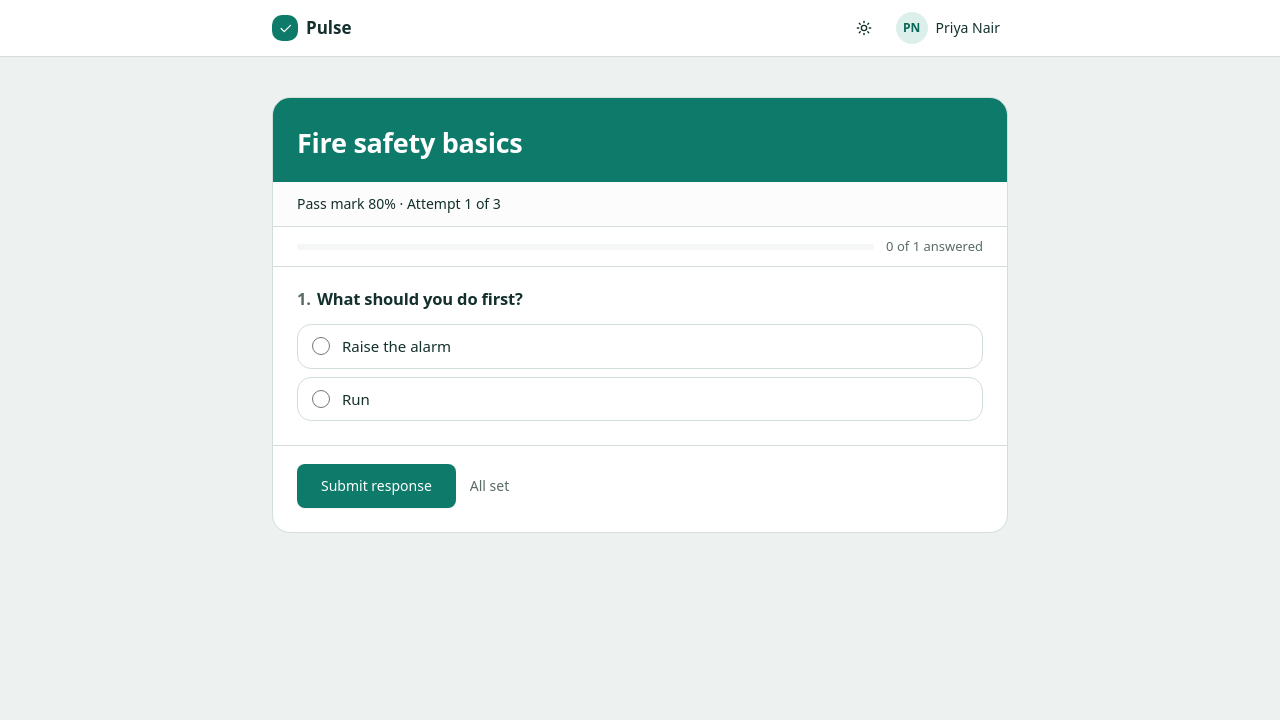
it: taking a scored training › shows the pass mark, scores on the server, and offers a retake
Expected: the text "Pass mark 80% · Attempt 1 of 3" is shown, [273,182,1007,227]
Click the radio button labelled "Run" at (321, 399), box [312,390,330,408]
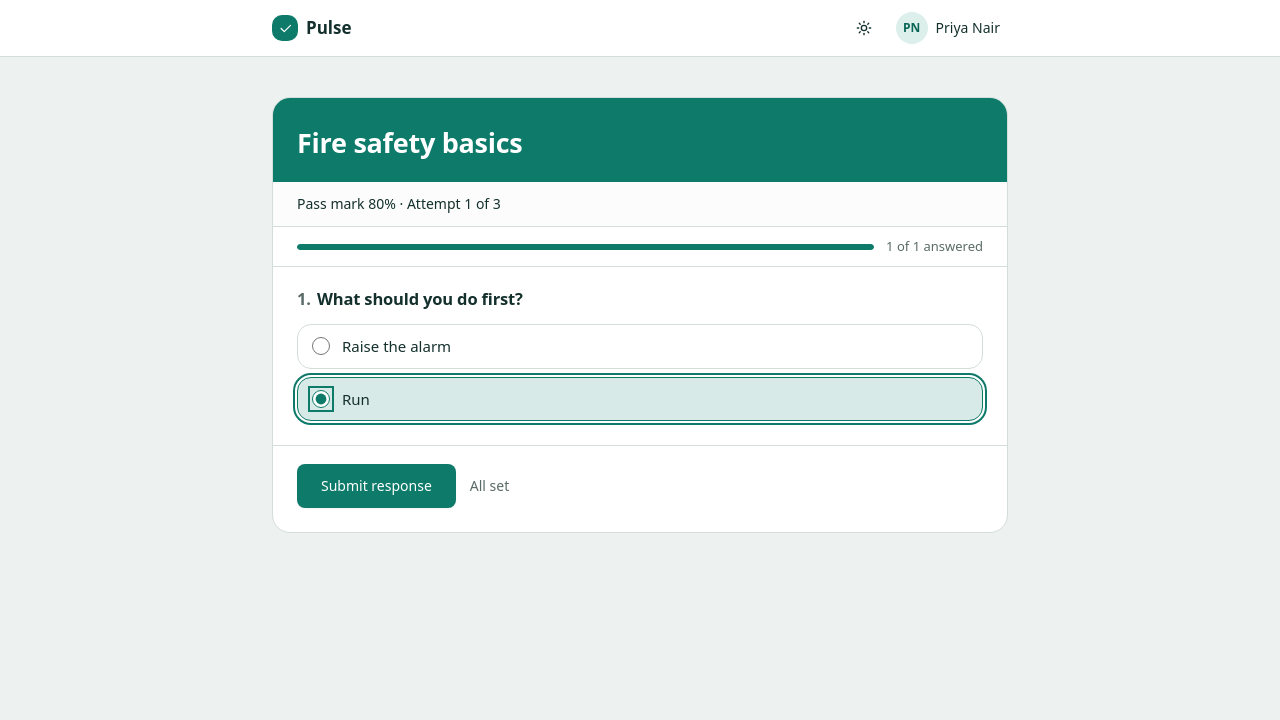
Click the button "Submit response" at (376, 486), box [297,464,456,508]
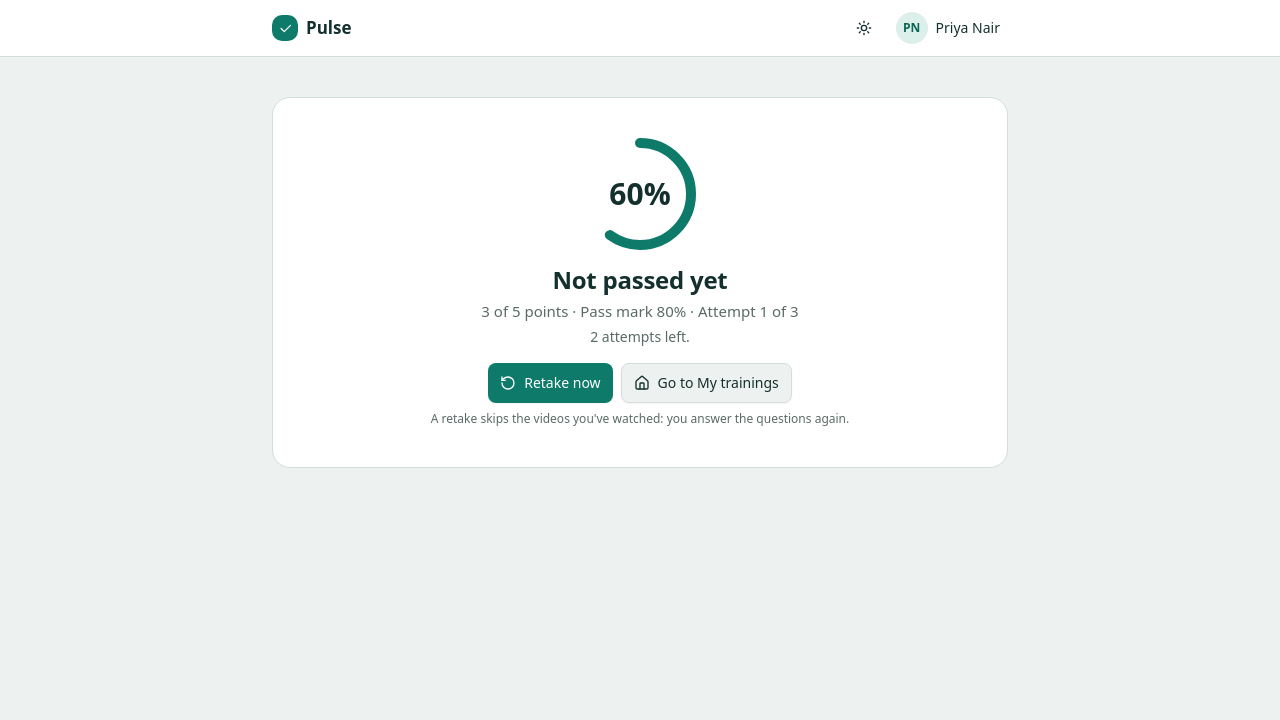
Now the picture named "Score 60%" is shown, box [584,138,696,250]
Now the text "3 of 5 points · Pass mark 80% · Attempt 1 of 3" is shown, box [481,301,799,321]
Now the text "2 attempts left." is shown, box [590,326,690,346]
Click the button "Retake now" at (550, 382), box [488,362,613,402]
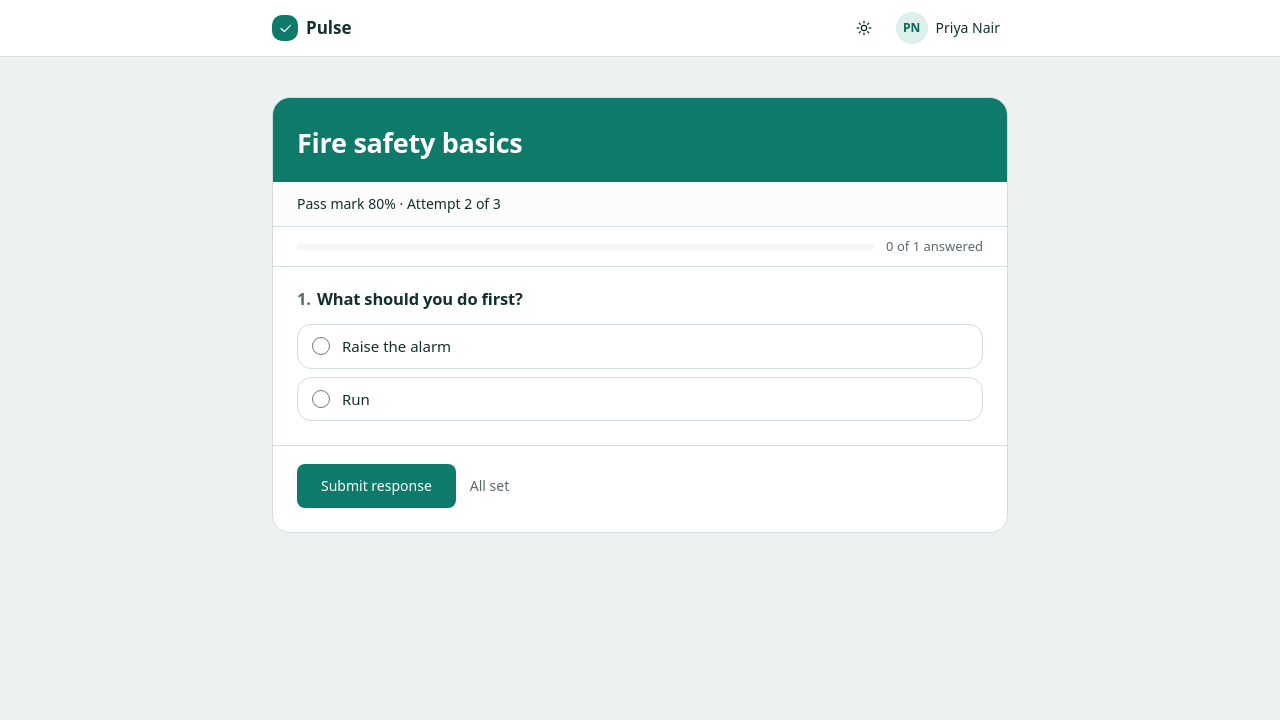
Now the text "Pass mark 80% · Attempt 2 of 3" is shown, box [273,182,1007,227]
Now the radio button labelled "Run" is not checked, box [312,390,330,408]
